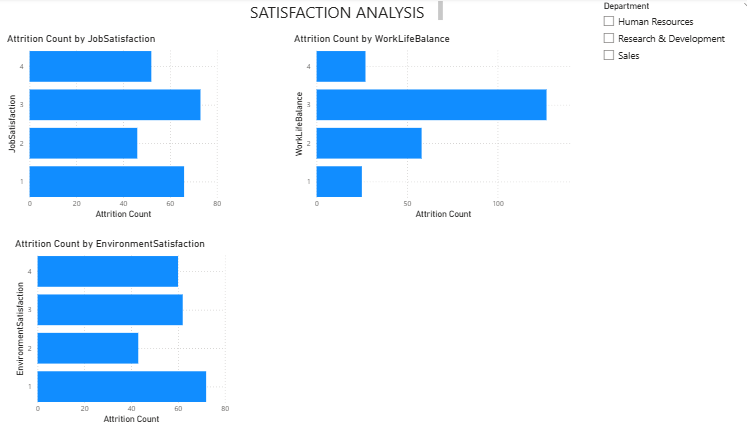

The dashboard page shown, as its layout file describes it:
{"tool":"powerbi","page":{"name":"Satisfaction Analysis","canvas":[1280,720],"ordinal":3},"visuals":[{"type":"clusteredBarChart","fields":{"Category":["WA_Fn-UseC_-HR-Employee-Attrition.JobSatisfaction"],"Y":["_Measures.Attrition Count"]},"box":[10.1,28.6,369.6,319.2],"z":0},{"type":"clusteredBarChart","fields":{"Category":["WA_Fn-UseC_-HR-Employee-Attrition.WorkLifeBalance"],"Y":["_Measures.Attrition Count"]},"box":[640,65.5,483.8,319.2],"z":1},{"type":"clusteredBarChart","fields":{"Category":["WA_Fn-UseC_-HR-Employee-Attrition.EnvironmentSatisfaction"],"Y":["_Measures.Attrition Count"]},"box":[10.1,359.5,369.6,319.2],"z":2},{"type":"textbox","box":[419.9,0,334.3,43.7],"z":3}]}

Visuals, with their boxes in screenshot pixels (x1, y1, x2, y2), scaled from the page's 1280x720 canvas onto the 747x426 screenshot:
clusteredBarChart - WA_Fn-UseC_-HR-Employee-Attrition.JobSatisfaction x _Measures.Attrition Count: 6,17,222,206
clusteredBarChart - WA_Fn-UseC_-HR-Employee-Attrition.WorkLifeBalance x _Measures.Attrition Count: 374,39,656,228
clusteredBarChart - WA_Fn-UseC_-HR-Employee-Attrition.EnvironmentSatisfaction x _Measures.Attrition Count: 6,213,222,402
textbox: 245,0,440,26
